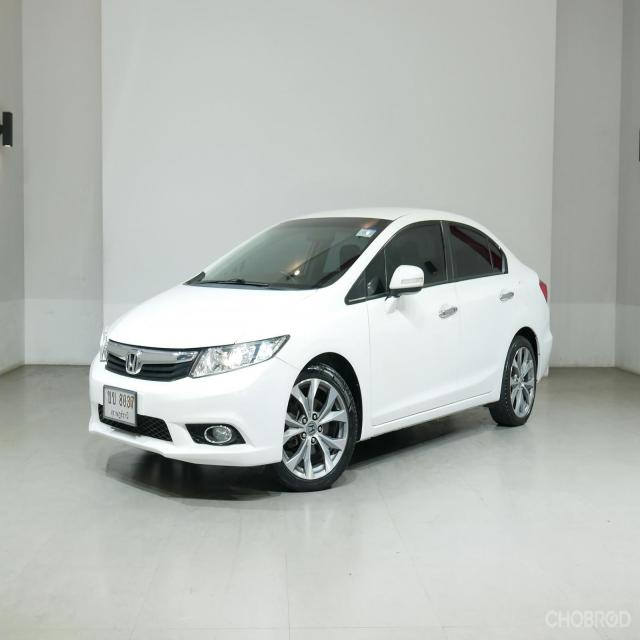license_plate: (94, 381, 144, 437)
